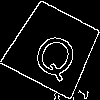Q: (28, 23, 87, 84)
